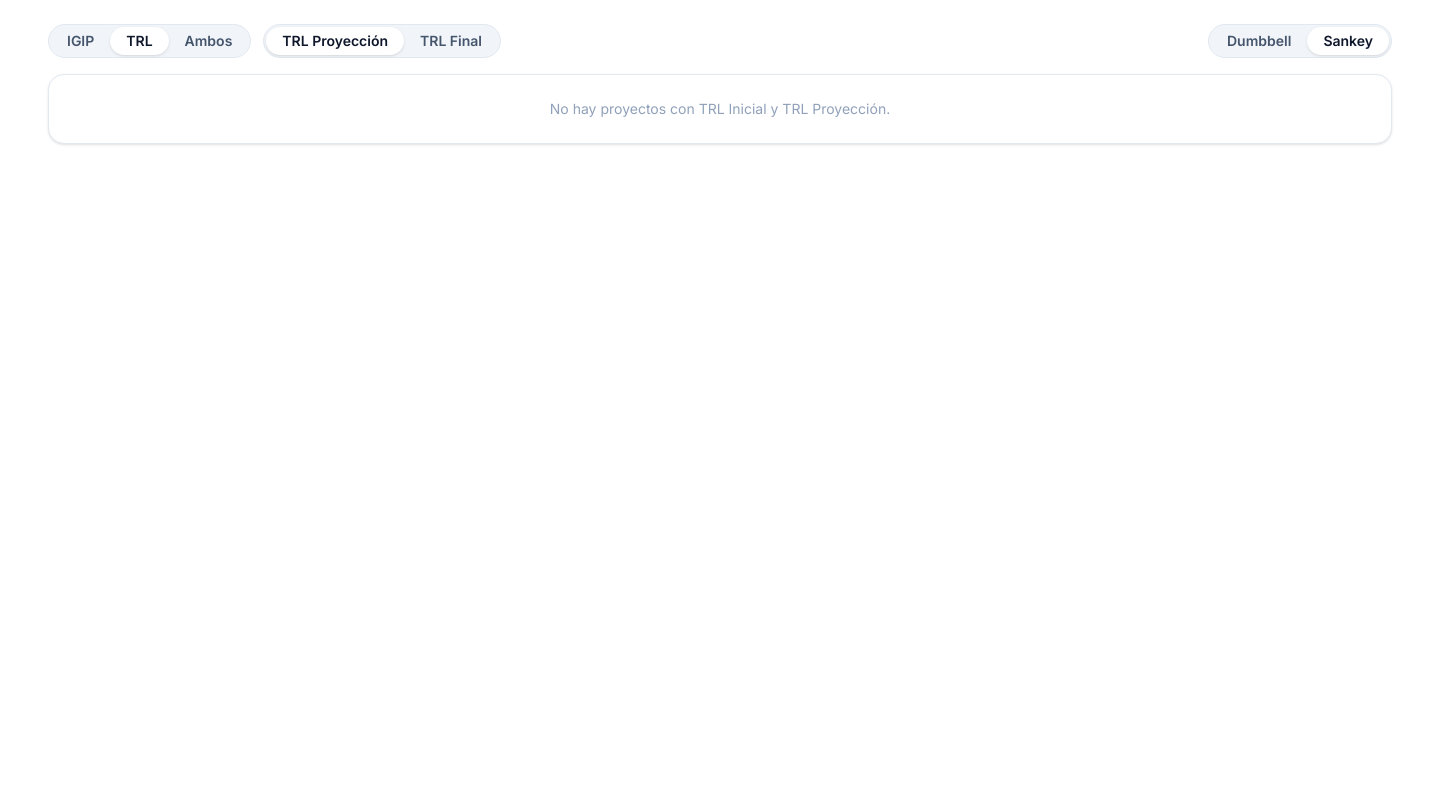
Test: VitrinaIndicadoresDashboard › pone el punto inicial encima cuando no hay variación
Click the tab "IGIP". click: (81, 41)
box: [51,27,110,55]
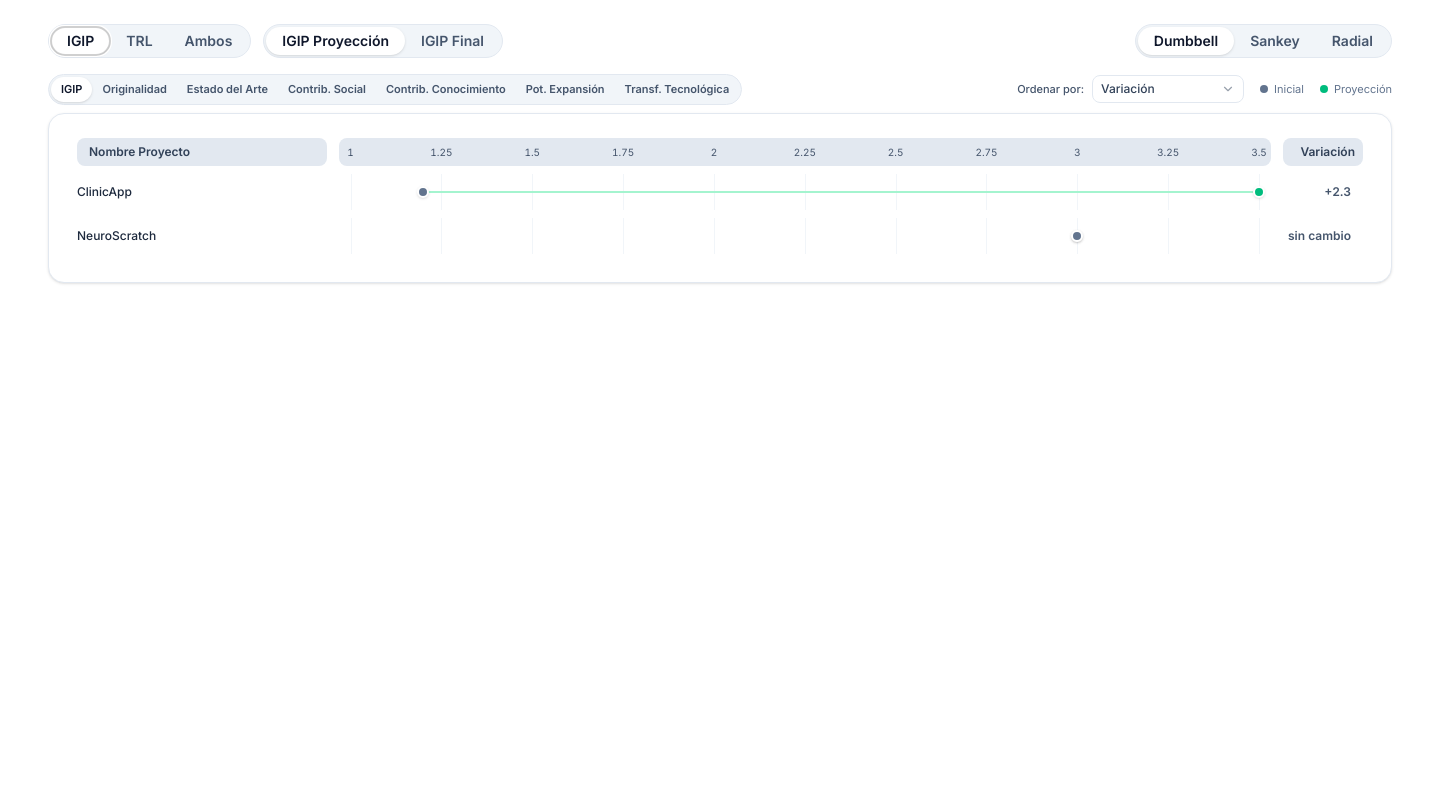
Result: the text "sin cambio" is shown at [1288,228,1351,242]
